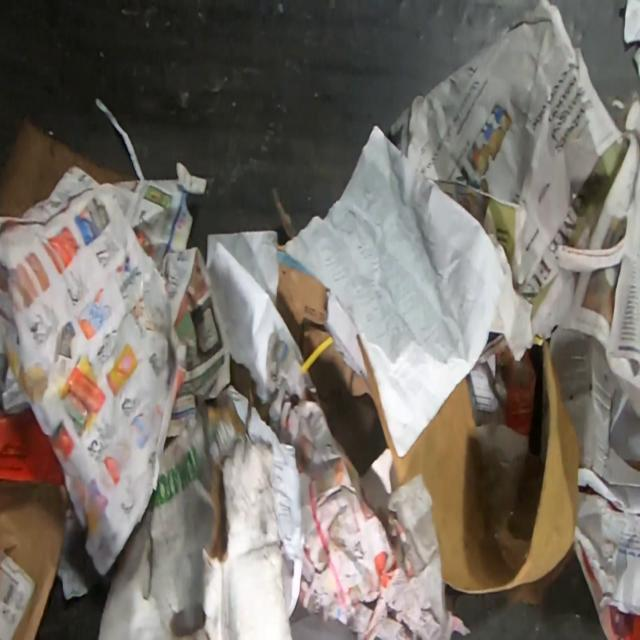cardboard: (356, 332, 580, 595), (96, 387, 295, 639), (0, 114, 139, 218), (0, 478, 72, 639), (308, 342, 387, 479), (276, 243, 332, 362), (0, 407, 65, 485), (225, 356, 271, 425)
